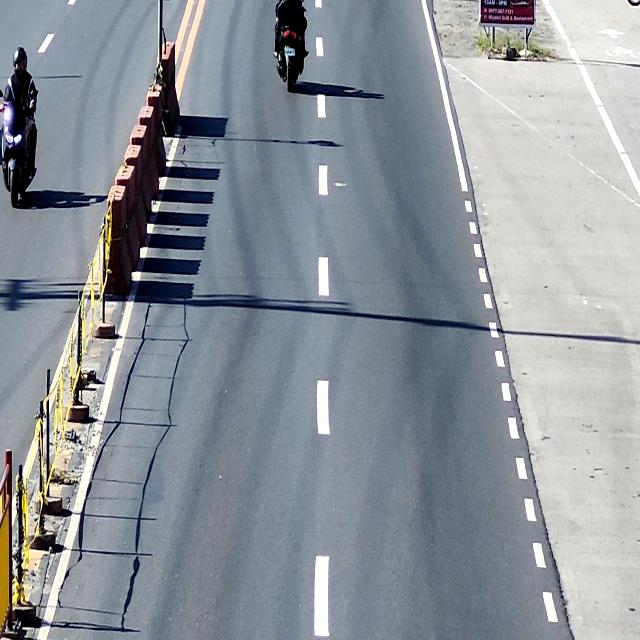License-Plate: (284, 46, 298, 59)
Motorcycle: (1, 99, 36, 209), (273, 21, 307, 98)
